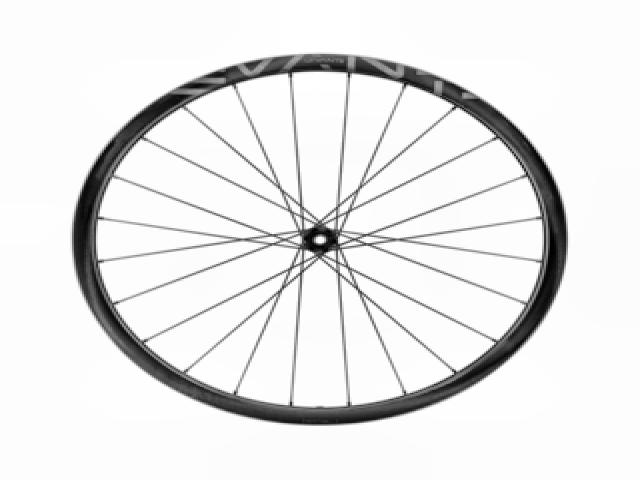wheel: (66, 49, 575, 433)
